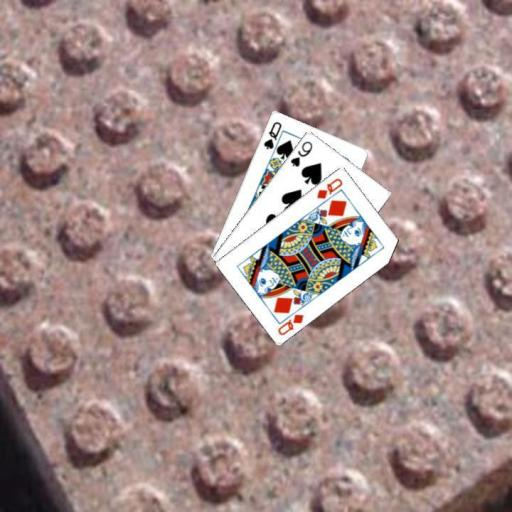card-corner: (287, 137, 314, 168), (260, 118, 283, 151), (314, 175, 344, 200), (275, 311, 305, 336)
